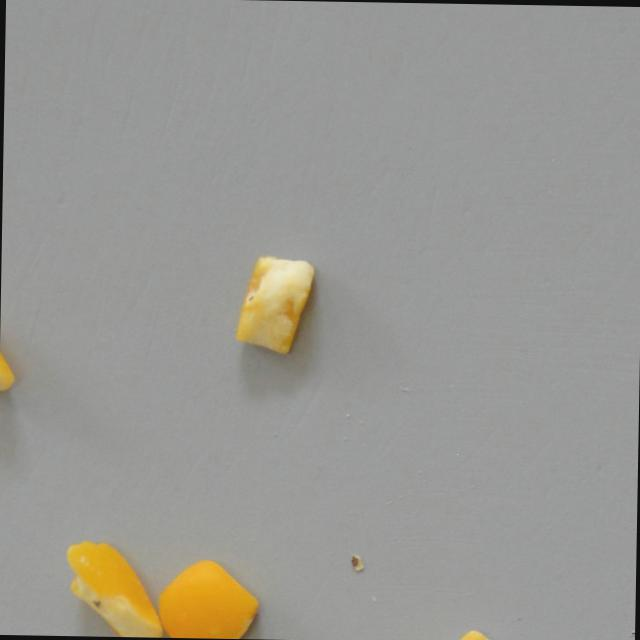estandar: (154, 553, 262, 639)
pelicula: (401, 617, 509, 640), (0, 279, 16, 408)
punto_negro: (62, 537, 166, 637), (232, 252, 317, 356)
